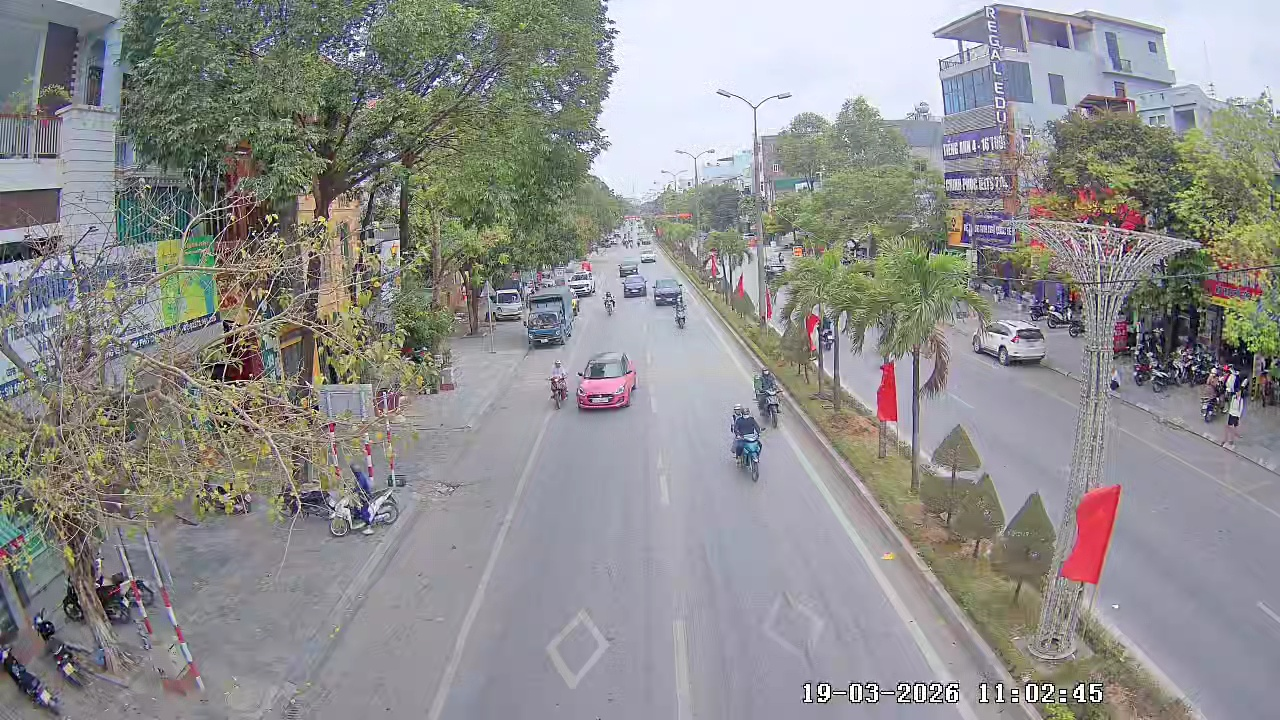car: (576, 349, 637, 412), (972, 321, 1049, 367), (651, 278, 674, 306)
motorbike: (727, 403, 765, 482), (754, 368, 783, 429), (546, 359, 570, 409), (673, 297, 688, 330), (602, 288, 617, 316)
truck: (523, 291, 571, 349)
